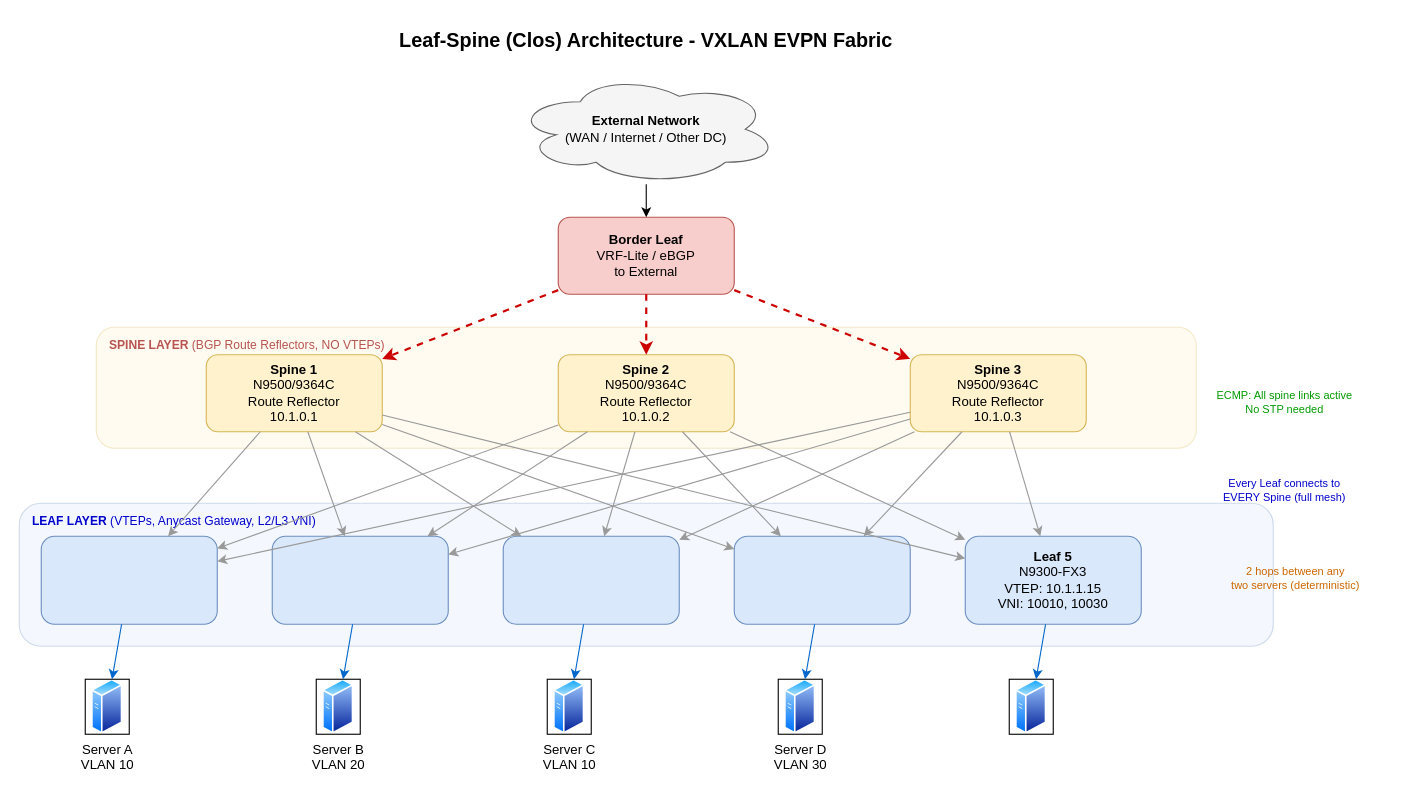
Some shapes in this 1414 by 792 pixel diagram are drawn without their labels. The shapes that lost their labels are listed below. From the top down, each one's centre as x and y in pixels, then its label:
At point 128,579: "Leaf 1 N9300-FX3 VTEP: 10.1.1.11 VNI: 10010, 10020".
At point 359,579: "Leaf 2 N9300-FX3 VTEP: 10.1.1.12 VNI: 10010, 10020".
At point 590,579: "Leaf 3 N9300-FX3 VTEP: 10.1.1.13 VNI: 10010, 10030".
At point 821,579: "Leaf 4 N9300-FX3 VTEP: 10.1.1.14 VNI: 10020, 10030".
At point 1031,706: "Server E VLAN 10".
